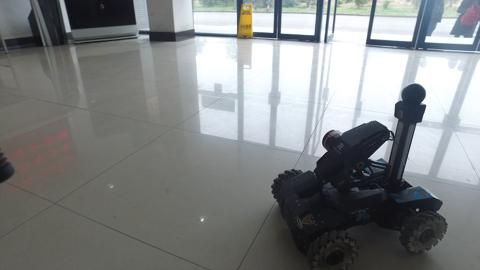chariot: (269, 81, 448, 269)
